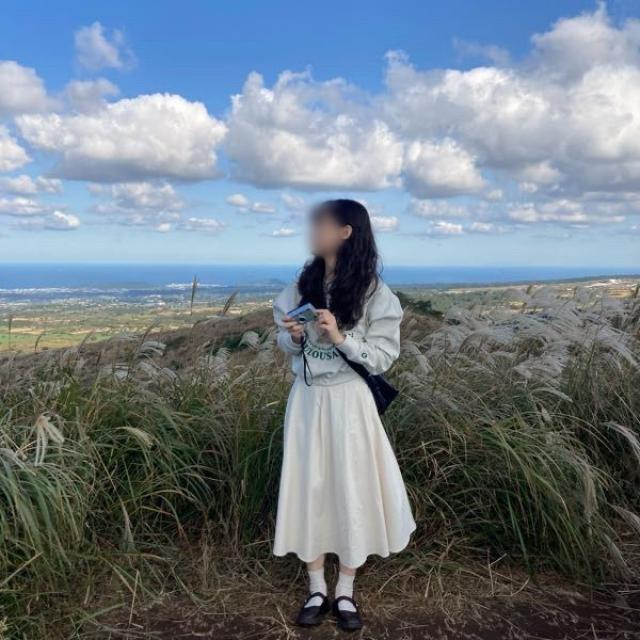mtm: (278, 260, 408, 391)
skirt: (275, 367, 418, 566)
